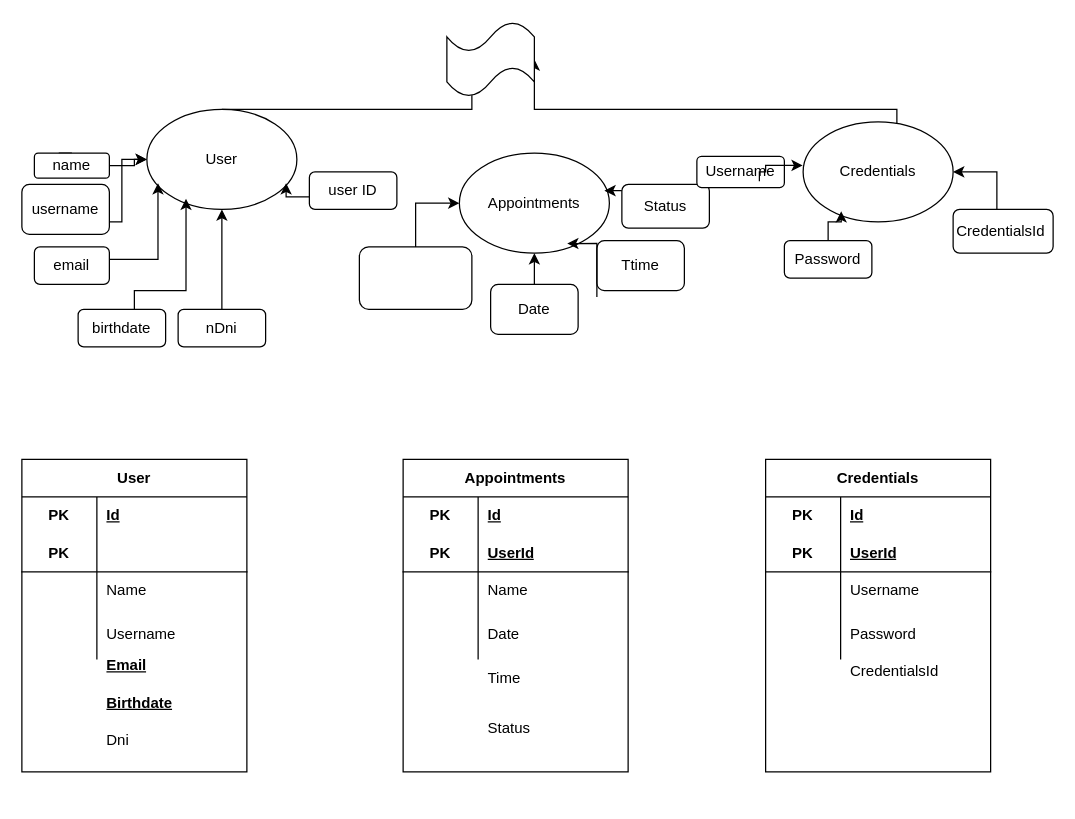
The diagram is 1075 pixels wide and 819 high, and some of its shapes have lost their labels. Here are the shapes that lost their labels. From the top down, the centre of each, then its label:
the point at 490,59: DB
the point at 415,277: Appointments ID
